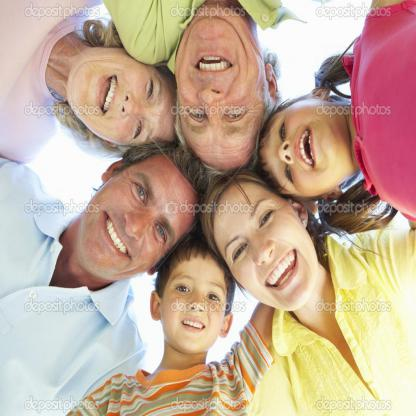face: (81, 154, 204, 273), (213, 184, 315, 310), (179, 17, 263, 164), (70, 53, 179, 148), (262, 99, 342, 192), (161, 253, 229, 353)
